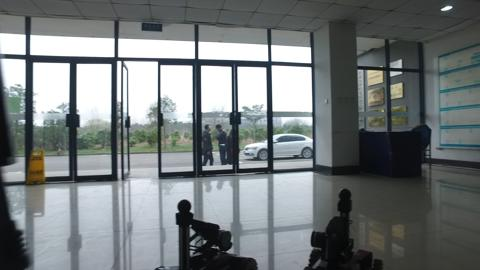chariot: (158, 199, 261, 270), (303, 185, 384, 269)
